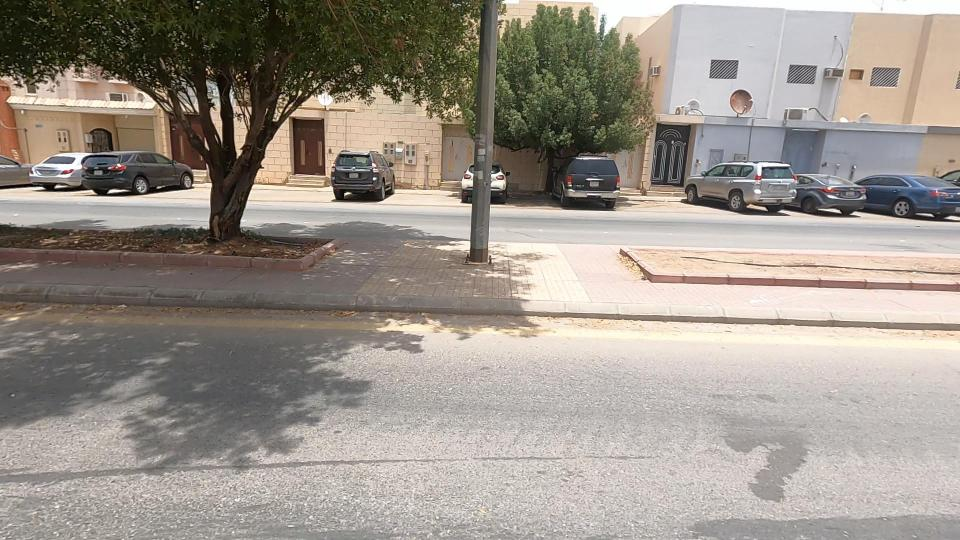CLUTTER_SIDEWALK: (546, 203, 960, 321)
